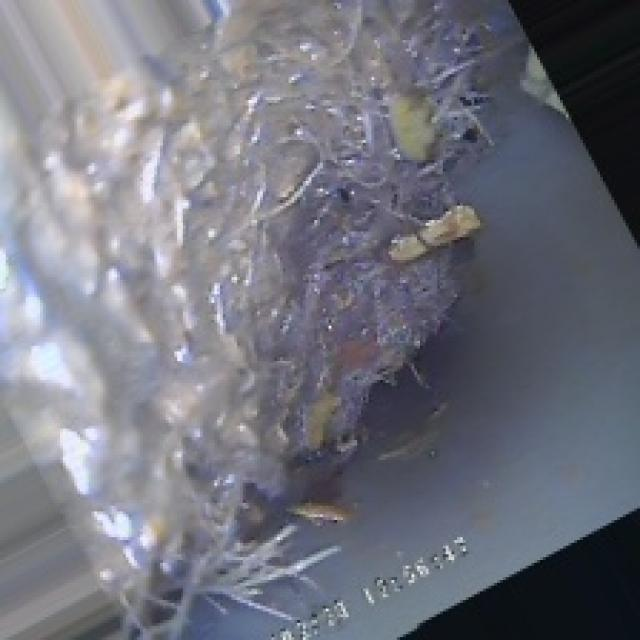sluge accumulation: (60, 14, 517, 520)
